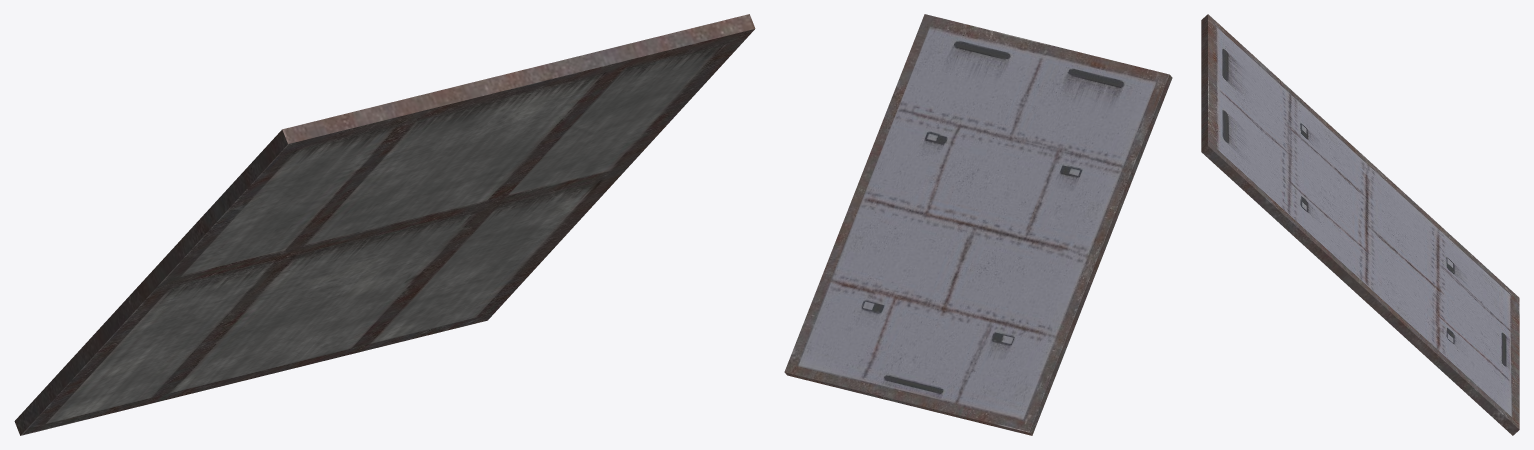
The model's file is armored_roof_square_textured.glb.
3 views of the same model, side by side, from view 1: azimuth 30°, elevation 25°; view 2: azimuth 150°, elevation 25°; view 3: azimuth 270°, elevation 25° (orthographic). The views are drawn at different scales.
Parts seen in each view (by area): view 1: Plane.001; view 2: Plane.001; view 3: Plane.001.
Part boxes in pixels (x1,y1,x2,y2): Plane.001: (14,14,755,435); Plane.001: (784,14,1172,435); Plane.001: (1201,14,1519,435).
Bounding box in the file's own units: 2.23 × 2.28 × 2.26.
1 material, 1 textured.
